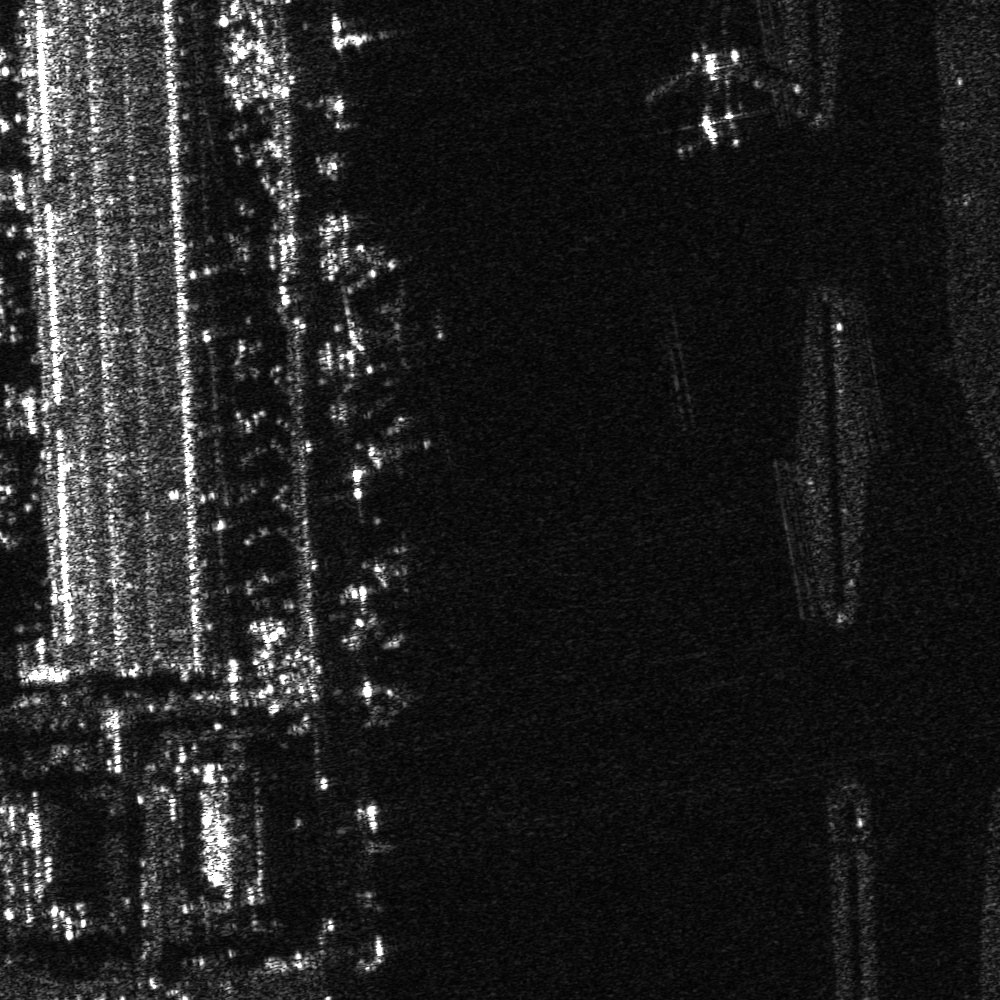A220: (345, 286, 452, 373)
other: (637, 24, 773, 158), (347, 405, 439, 473), (357, 528, 439, 593)
